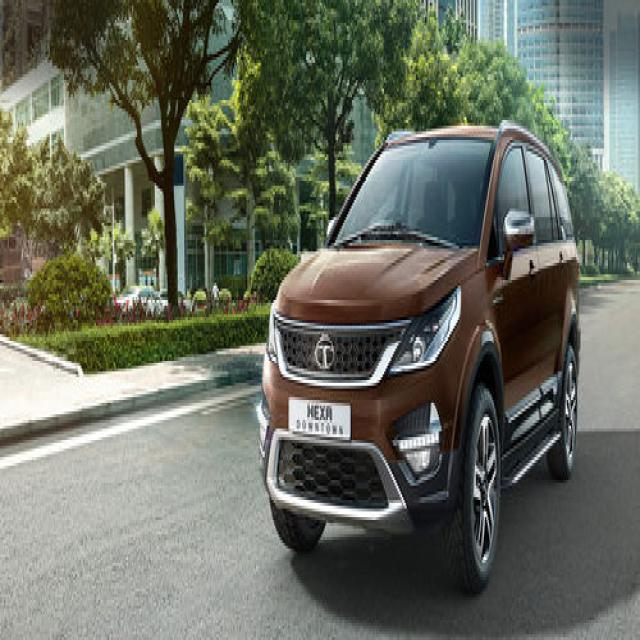car: (266, 126, 578, 543)
